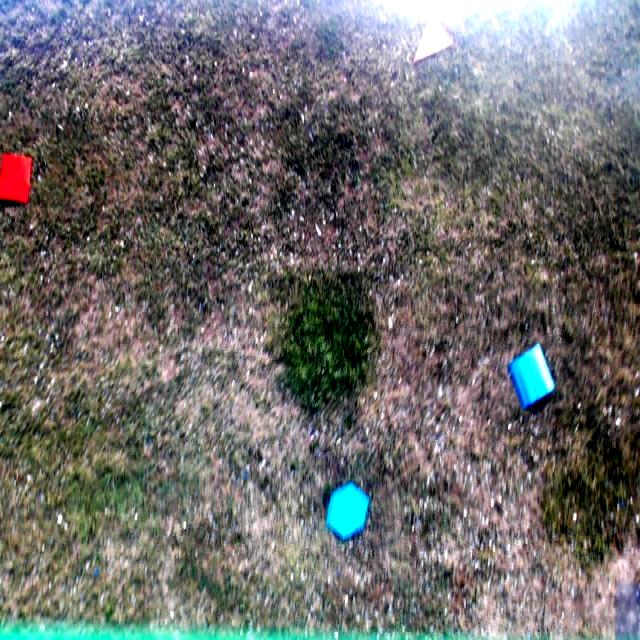blue_hexagon: (324, 480, 371, 546)
blue_square: (504, 344, 557, 411)
